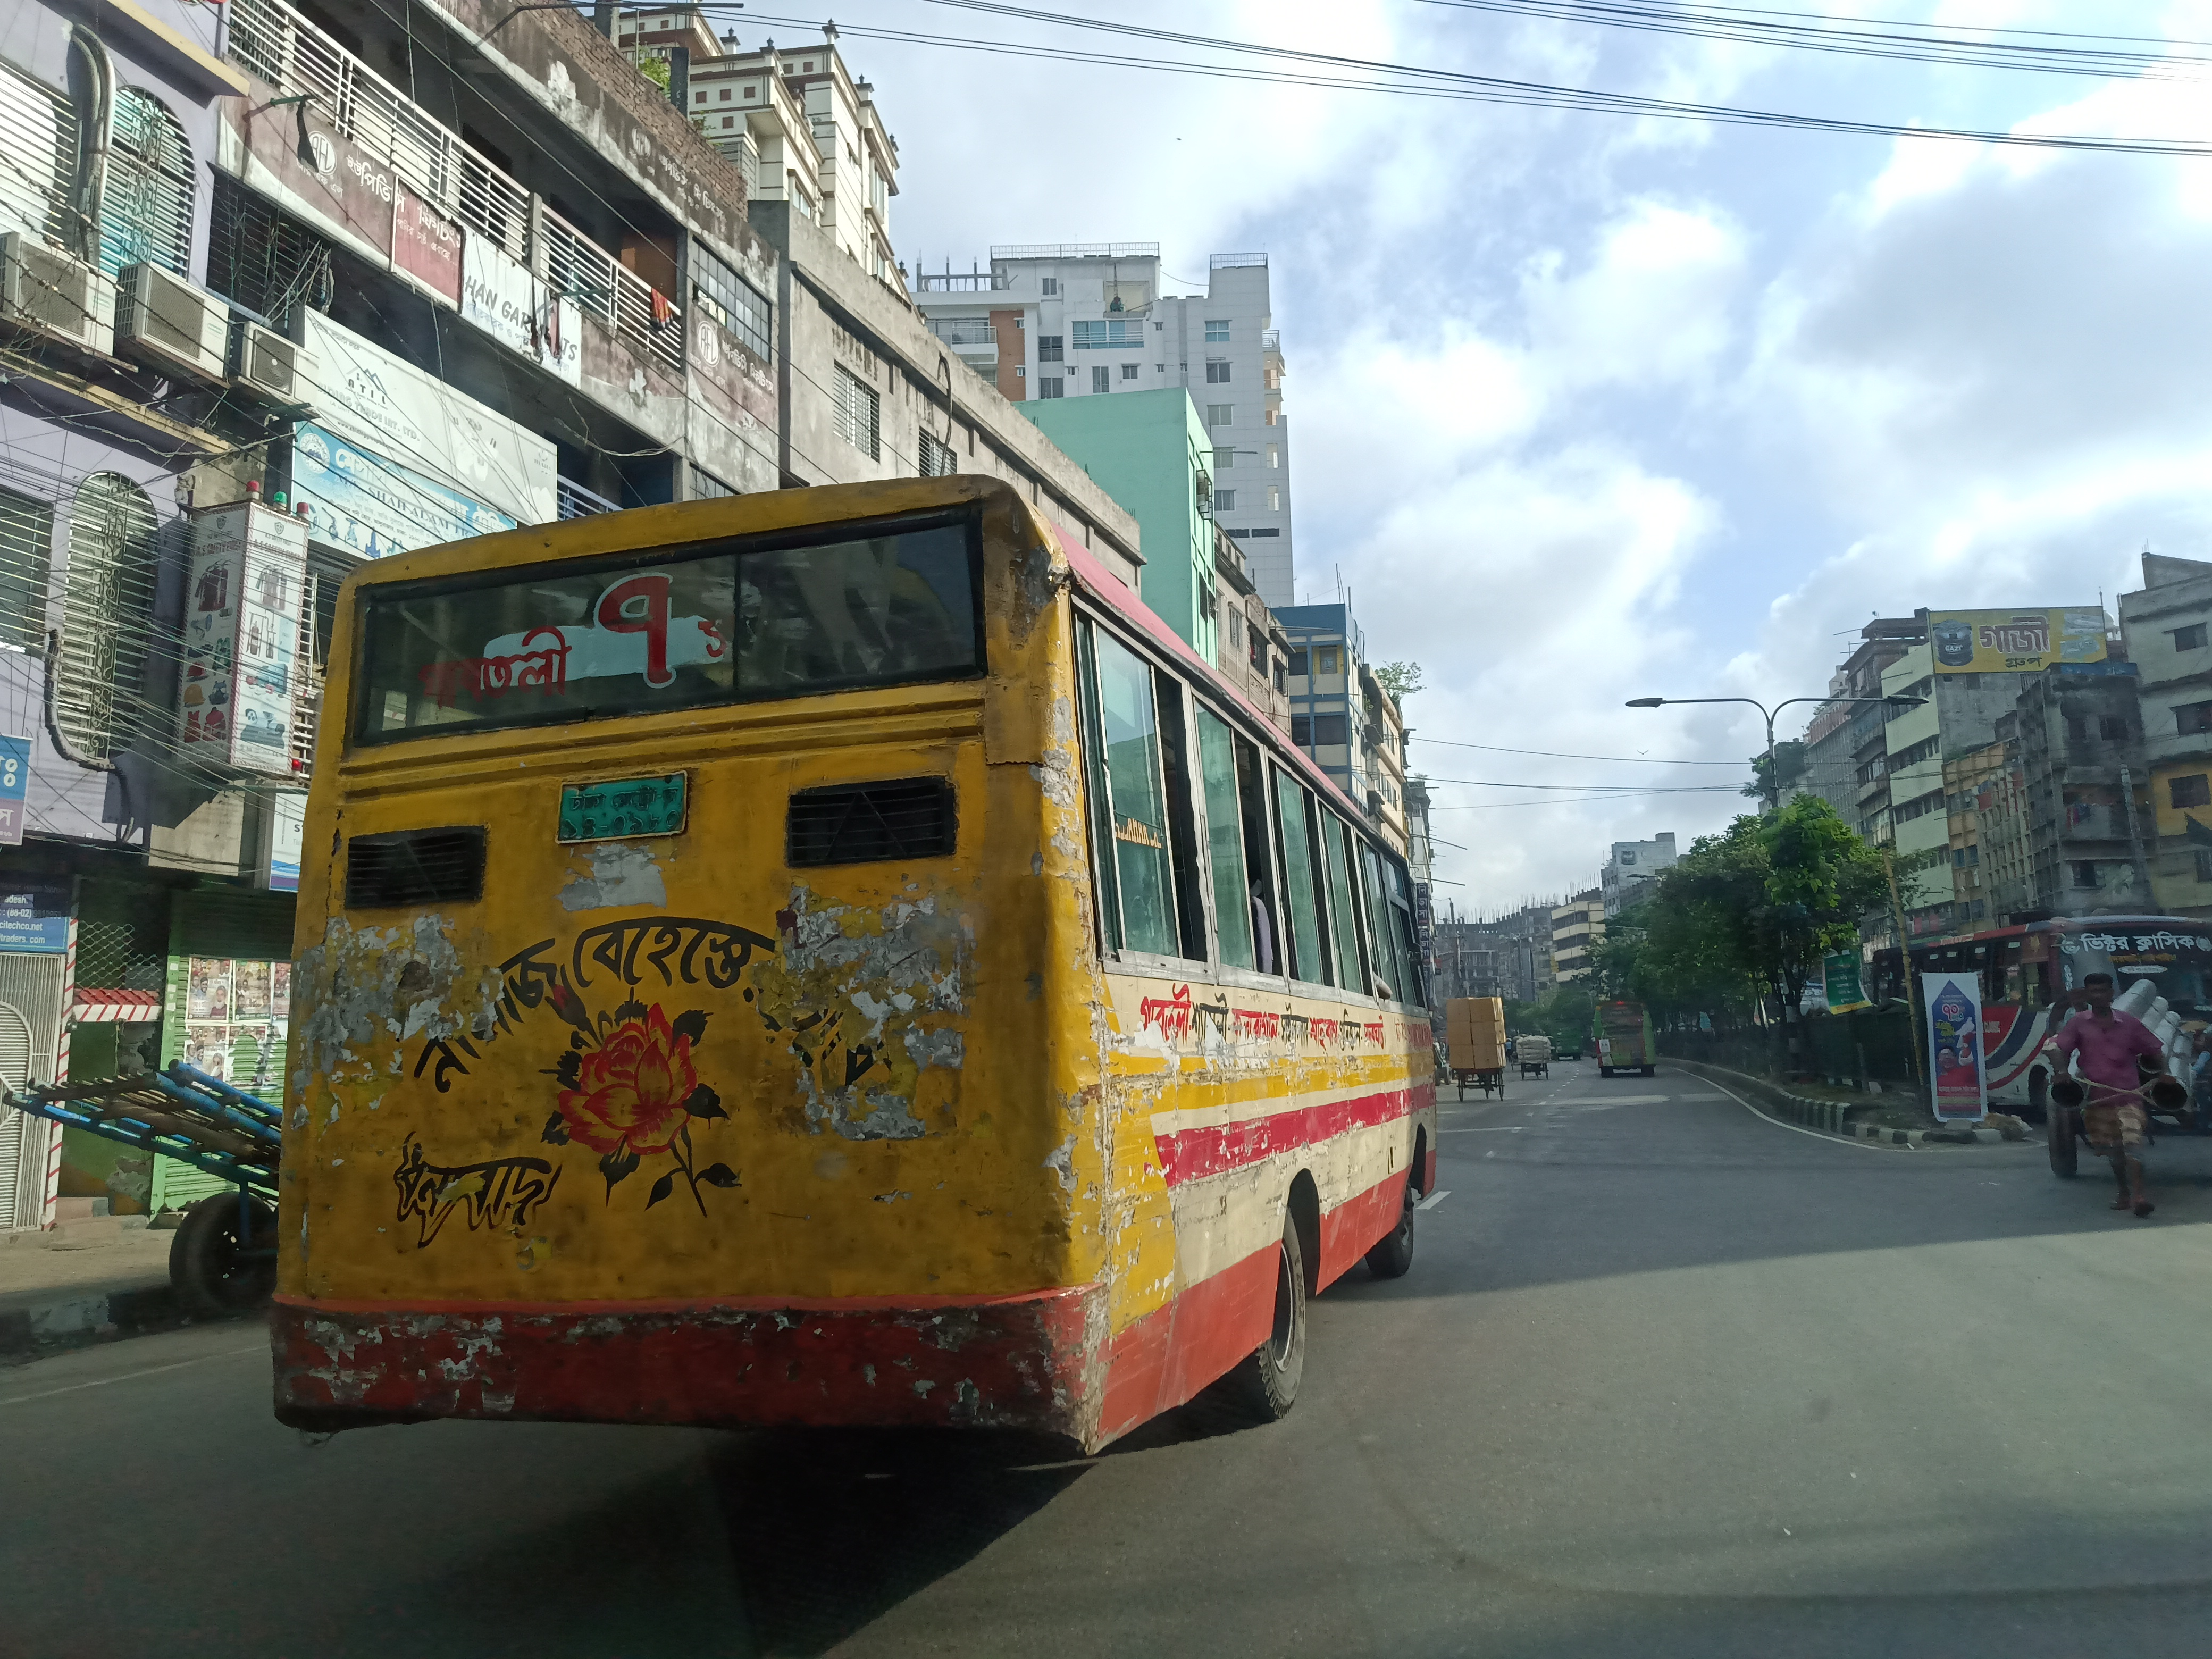bus: (277, 464, 1461, 1480), (1872, 894, 2212, 1124)
